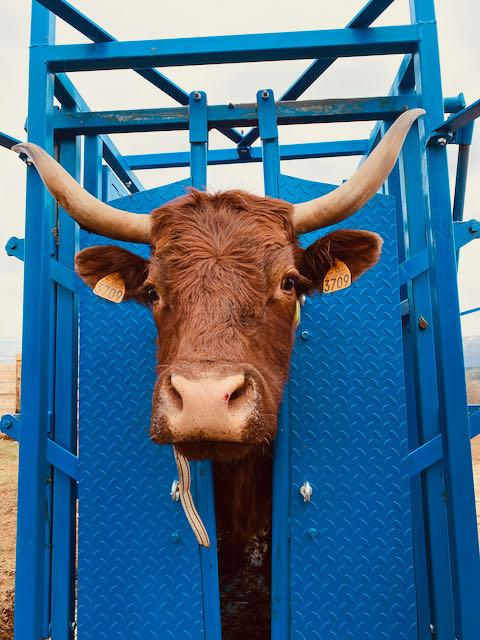muzzles: (135, 357, 291, 460)
